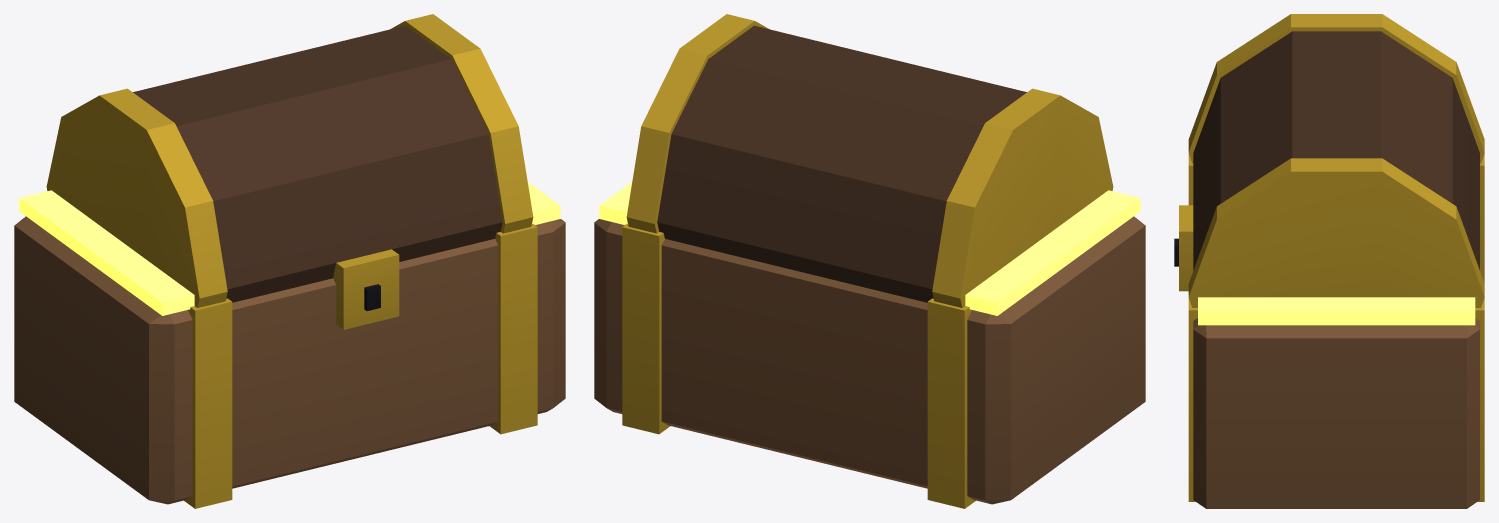
File: chest.glb
3 views of the same model, side by side, from view 1: azimuth 30°, elevation 25°; view 2: azimuth 150°, elevation 25°; view 3: azimuth 270°, elevation 25° (orthographic). The views are drawn at different scales.
Visible parts, largest first — view 1: chest; view 2: chest; view 3: chest.
Boxes of the visible parts, box(x1,y1,x2,y2) form: chest: box(14, 14, 565, 508); chest: box(594, 14, 1145, 508); chest: box(1174, 14, 1484, 508).
Size of the model in its own units: 0.9 by 0.7 by 0.6.
